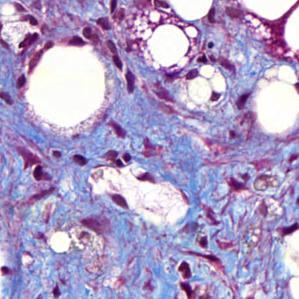steatosis: (147, 24, 190, 68)
